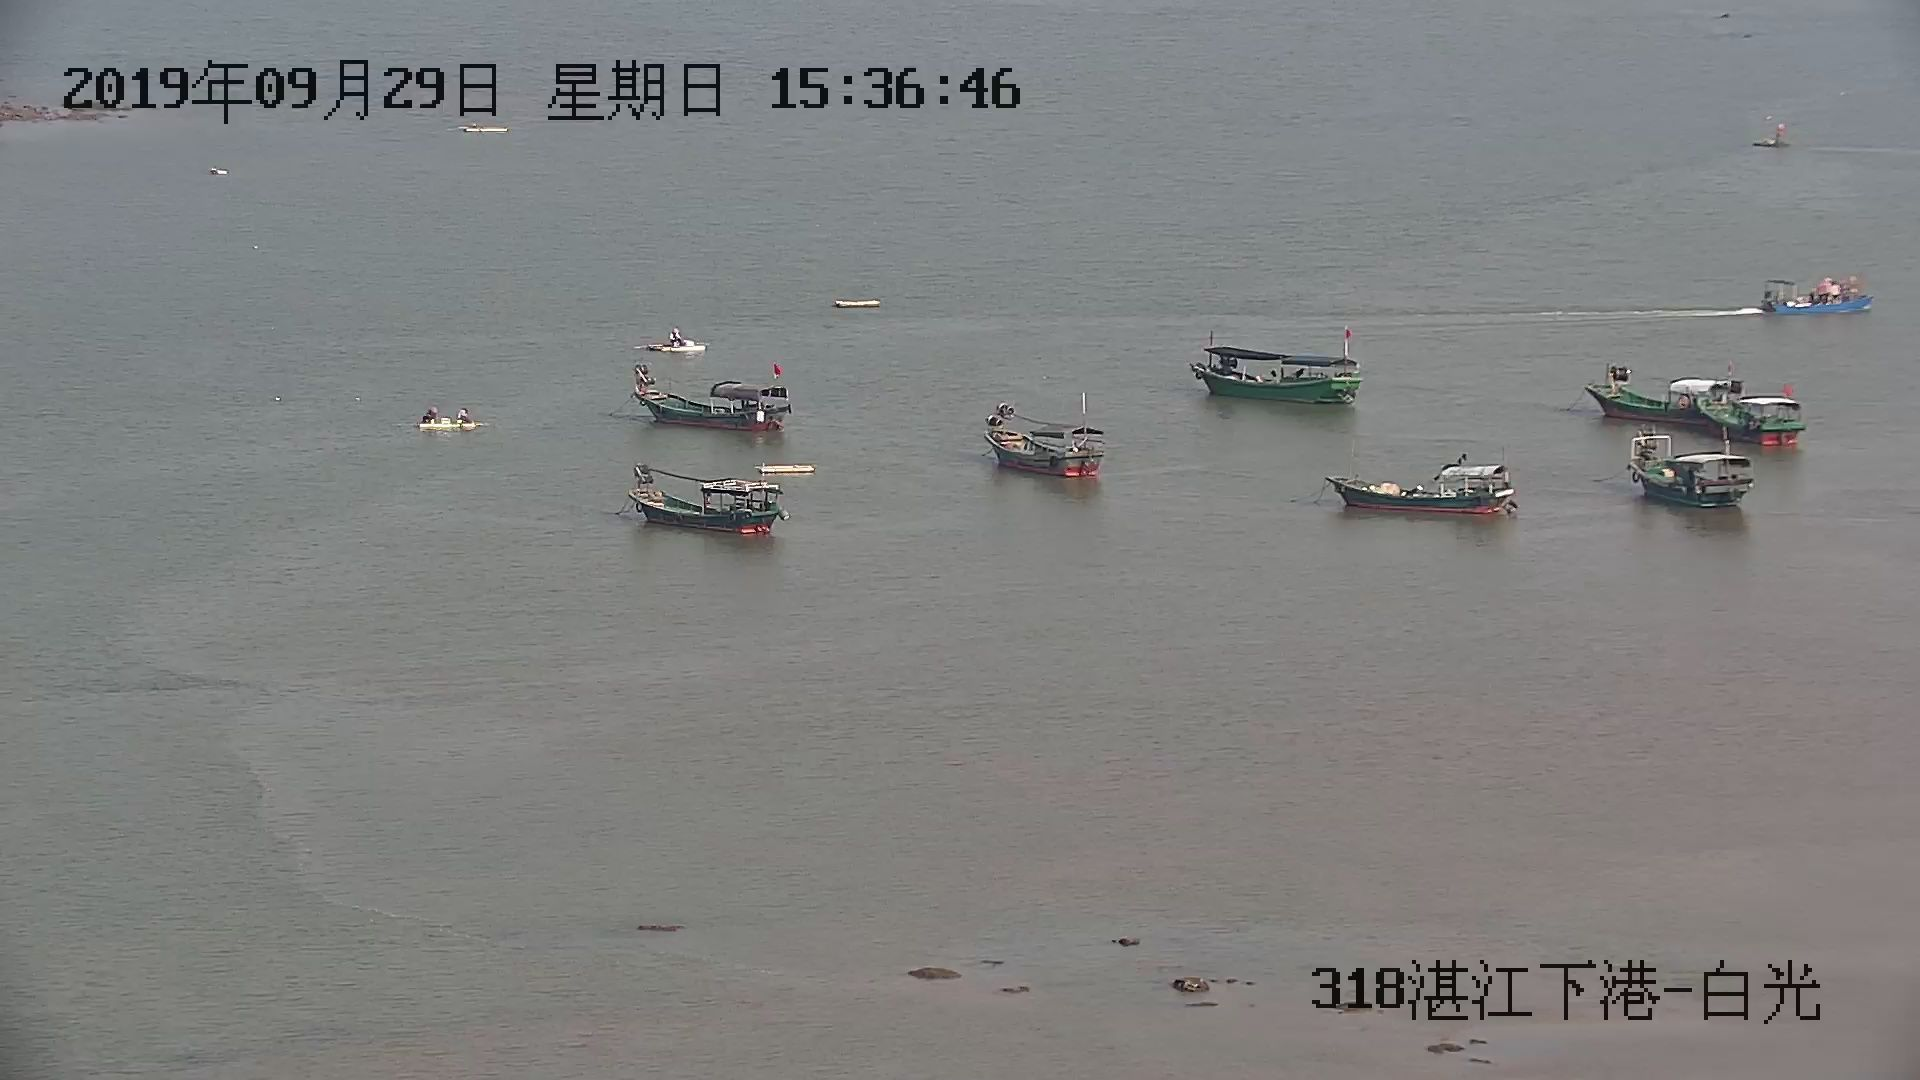ship: (1589, 364, 1803, 444), (1192, 322, 1366, 407), (1323, 455, 1516, 526), (624, 468, 786, 538), (1622, 431, 1754, 510), (984, 396, 1110, 477), (636, 376, 793, 433), (1755, 280, 1873, 316)
